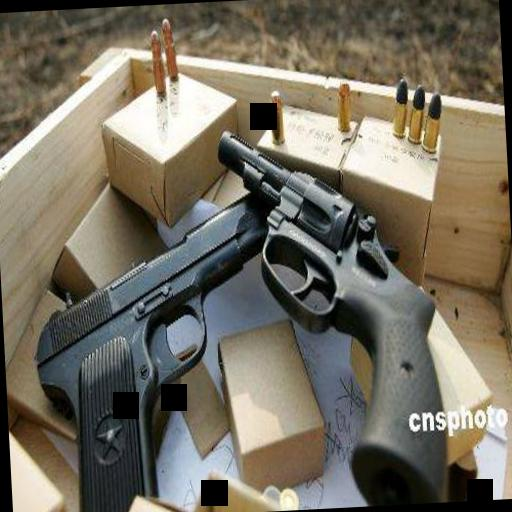Handgun: (213, 114, 449, 512), (23, 176, 296, 512)
